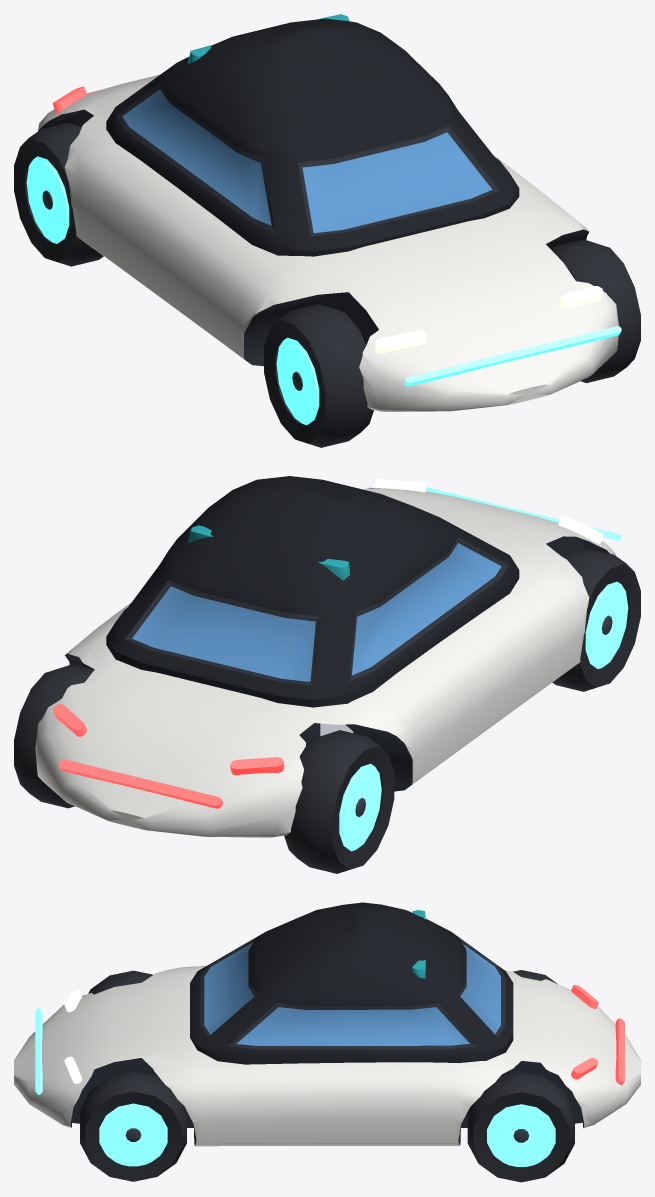
Rendered from futurista_bolha_branco.glb.
3 views of the same model, one above another, from view 1: azimuth 30°, elevation 25°; view 2: azimuth 150°, elevation 25°; view 3: azimuth 270°, elevation 25° (orthographic). The views are drawn at different scales.
Visible parts, largest first — view 1: futurista_bolha_branco, capota, roda_dianteira_esq, roda_traseira_esq, roda_dianteira_dir; view 2: futurista_bolha_branco, capota, roda_traseira_esq, roda_dianteira_esq, roda_traseira_dir; view 3: futurista_bolha_branco, capota, roda_dianteira_dir, roda_traseira_dir, roda_dianteira_esq.
Boxes of the visible parts, x1,y1,x2,y2 form: futurista_bolha_branco: [38, 14, 621, 411]; capota: [106, 18, 519, 256]; roda_dianteira_esq: [264, 304, 373, 447]; roda_traseira_esq: [14, 122, 103, 266]; roda_dianteira_dir: [551, 239, 640, 382]; futurista_bolha_branco: [35, 479, 621, 837]; capota: [106, 476, 519, 707]; roda_traseira_esq: [284, 730, 394, 873]; roda_dianteira_esq: [552, 548, 640, 691]; roda_traseira_dir: [14, 664, 93, 808]; futurista_bolha_branco: [14, 910, 640, 1146]; capota: [190, 902, 513, 1064]; roda_dianteira_dir: [80, 1071, 186, 1181]; roda_traseira_dir: [467, 1072, 574, 1182]; roda_dianteira_esq: [88, 970, 152, 994].
Bounding box in the file's own units: 1.9 × 1.44 × 3.88.
Materials: 5 (1 with a texture image).
